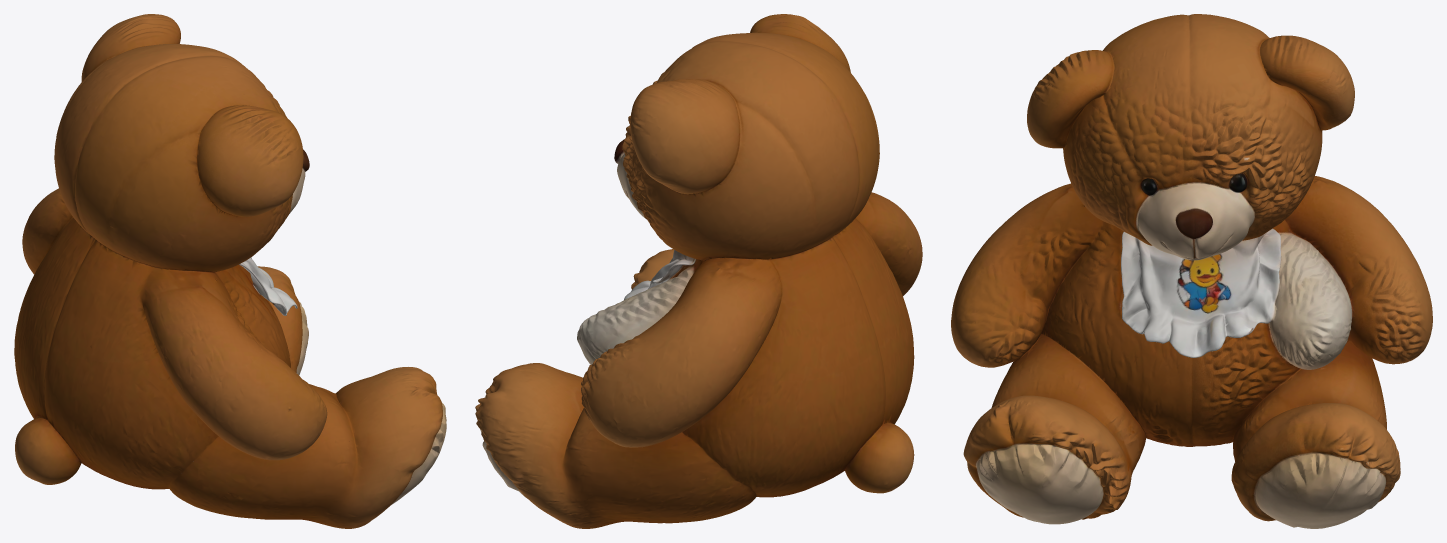
File: teddy.glb
3 views of the same model, side by side, from view 1: azimuth 30°, elevation 25°; view 2: azimuth 150°, elevation 25°; view 3: azimuth 270°, elevation 25° (orthographic). The views are drawn at different scales.
Visible parts, largest first — view 1: tripo_node_f048a5a6-64fc-4957-ae0e-1bb09cc7f0d0; view 2: tripo_node_f048a5a6-64fc-4957-ae0e-1bb09cc7f0d0; view 3: tripo_node_f048a5a6-64fc-4957-ae0e-1bb09cc7f0d0.
Part boxes in pixels (x1,y1,x2,y2): tripo_node_f048a5a6-64fc-4957-ae0e-1bb09cc7f0d0: (14,14,446,528); tripo_node_f048a5a6-64fc-4957-ae0e-1bb09cc7f0d0: (475,14,922,528); tripo_node_f048a5a6-64fc-4957-ae0e-1bb09cc7f0d0: (951,14,1432,528).
Bounding box in the file's own units: 0.827 × 1 × 0.9877.
Materials: 1 (1 with a texture image).
